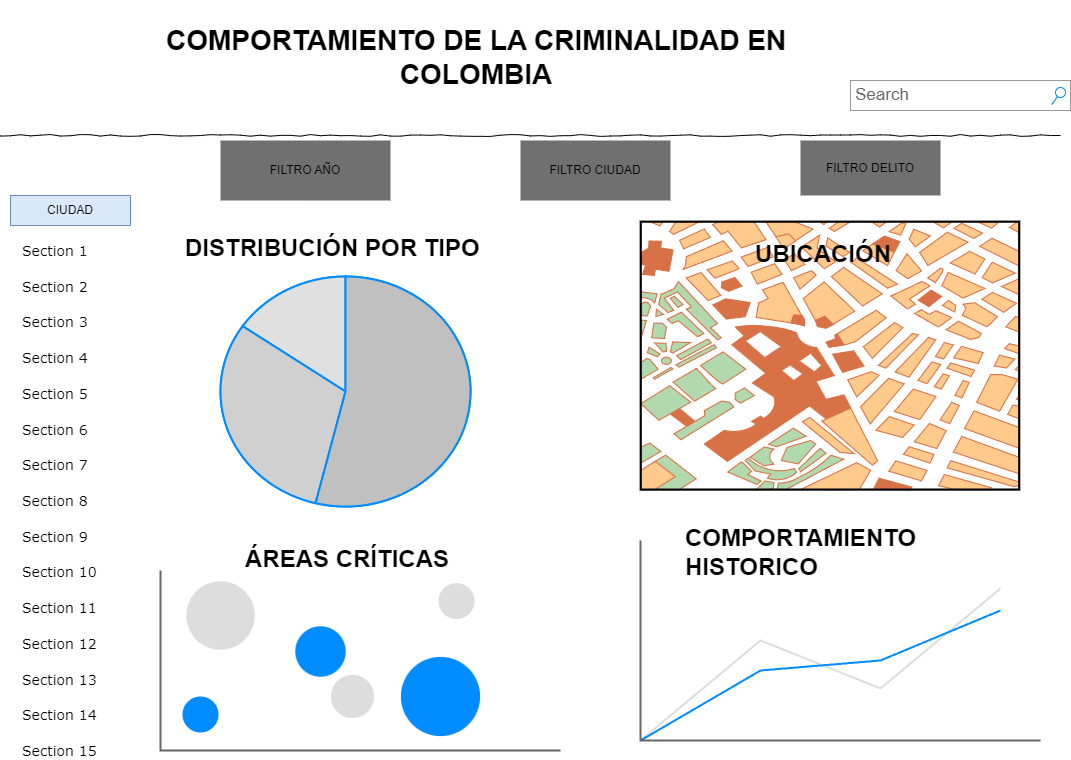

Layout of this report page (visuals, bound fields, positions):
{"tool":"powerbi","page":{"name":"Página 1","canvas":[1280,720],"ordinal":0},"visuals":[{"type":"slicer","fields":{"Values":["Delitos_Sexuales.DEPARTAMENTO"]},"box":[0,269.3,211.1,83.6],"z":0},{"type":"slicer","fields":{"Values":["Delitos_Sexuales.MUNICIPIO"]},"box":[0,352.9,211.1,83.6],"z":1000},{"type":"pieChart","fields":{"Category":["Delitos_Sexuales.SEXO"],"Y":["CountNonNull(Delitos_Sexuales.SEXO)"]},"box":[233.1,150.8,479.9,315.3],"z":2000},{"type":"map","fields":{"Size":["Sum(Delitos_Sexuales.CANTIDAD)"],"Category":["Delitos_Sexuales.Ubicación"],"Series":["Delitos_Sexuales.DEPARTAMENTO"]},"box":[712.9,150.8,567.6,315.3],"z":3000},{"type":"AnimImageChart5E0D9DE3474D954378960E4FBF598986","fields":{"animatedBubbleChart_chartPeriods":["Delitos_Sexuales.FECHA HECHO"],"animatedBubbleChart_xAxisValues":["Delitos_Sexuales.COD_DEPTO"],"animatedBubbleChart_itemGroups":["Delitos_Sexuales.SEXO"],"animatedBubbleChart_itemNames":["Delitos_Sexuales.DEPARTAMENTO"]},"box":[233.1,466.2,479.9,253.6],"z":4000},{"type":"lineChart","fields":{"Category":["Delitos_Sexuales.FECHA HECHO.Variación.Jerarquía de fechas.Año","Delitos_Sexuales.FECHA HECHO.Variación.Jerarquía de fechas.Trimestre","Delitos_Sexuales.FECHA HECHO.Variación.Jerarquía de fechas.Mes","Delitos_Sexuales.FECHA HECHO.Variación.Jerarquía de fechas.Día"],"Y":["Sum(Delitos_Sexuales.CANTIDAD)"],"Series":["Delitos_Sexuales.SEXO"]},"box":[712.9,466.2,567.6,253.6],"z":5000},{"type":"textbox","box":[0,16.5,1280.6,106.9],"z":5001},{"type":"slicer","fields":{"Values":["Delitos_Sexuales.FECHA HECHO.Variación.Jerarquía de fechas.Año"]},"box":[0,185.1,211.1,83.6],"z":5002}]}

Visuals, with their boxes on the page's 1280x720 design canvas (x1, y1, x2, y2). These are canvas units, not pixel positions in the 1071x760 screenshot, which may show the page scaled, cropped or inside an application window:
slicer - Delitos_Sexuales.DEPARTAMENTO: 0, 269, 211, 353
slicer - Delitos_Sexuales.MUNICIPIO: 0, 353, 211, 436
pieChart - Delitos_Sexuales.SEXO x CountNonNull(Delitos_Sexuales.SEXO): 233, 151, 713, 466
map - Sum(Delitos_Sexuales.CANTIDAD) x Delitos_Sexuales.Ubicación: 713, 151, 1280, 466
AnimImageChart5E0D9DE3474D954378960E4FBF598986 - Delitos_Sexuales.FECHA HECHO x Delitos_Sexuales.COD_DEPTO: 233, 466, 713, 720
lineChart - Delitos_Sexuales.FECHA HECHO.Variación.Jerarquía de fechas.Año x Delitos_Sexuales.FECHA HECHO.Variación.Jerarquía de fechas.Trimestre: 713, 466, 1280, 720
textbox: 0, 16, 1281, 123
slicer - Delitos_Sexuales.FECHA HECHO.Variación.Jerarquía de fechas.Año: 0, 185, 211, 269
